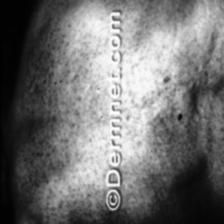Unclassified: (128, 12, 224, 214), (33, 17, 103, 209)
